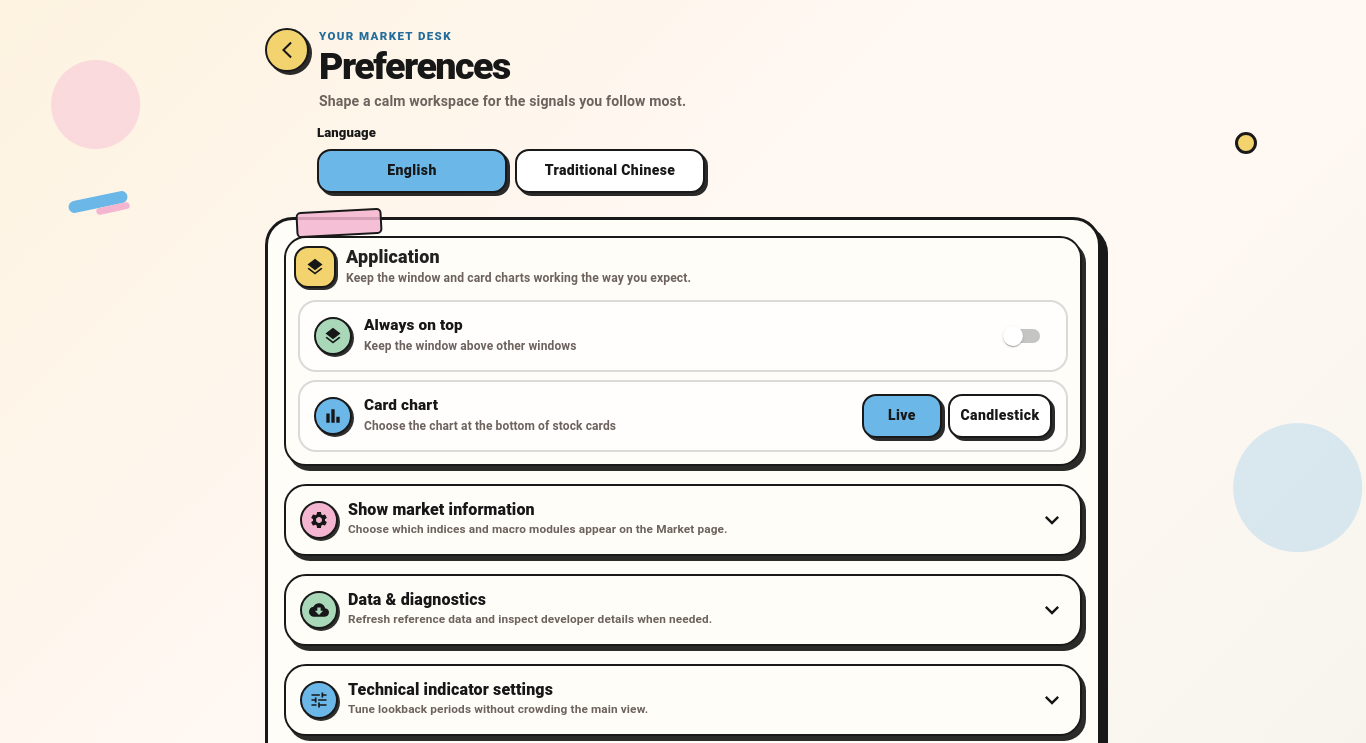
Test: Settings page › edits and resets an indicator without using the obsolete settings key
Click the button "Technical indicator settings": (319, 700) [286,666,1080,734]
(page scrolled)
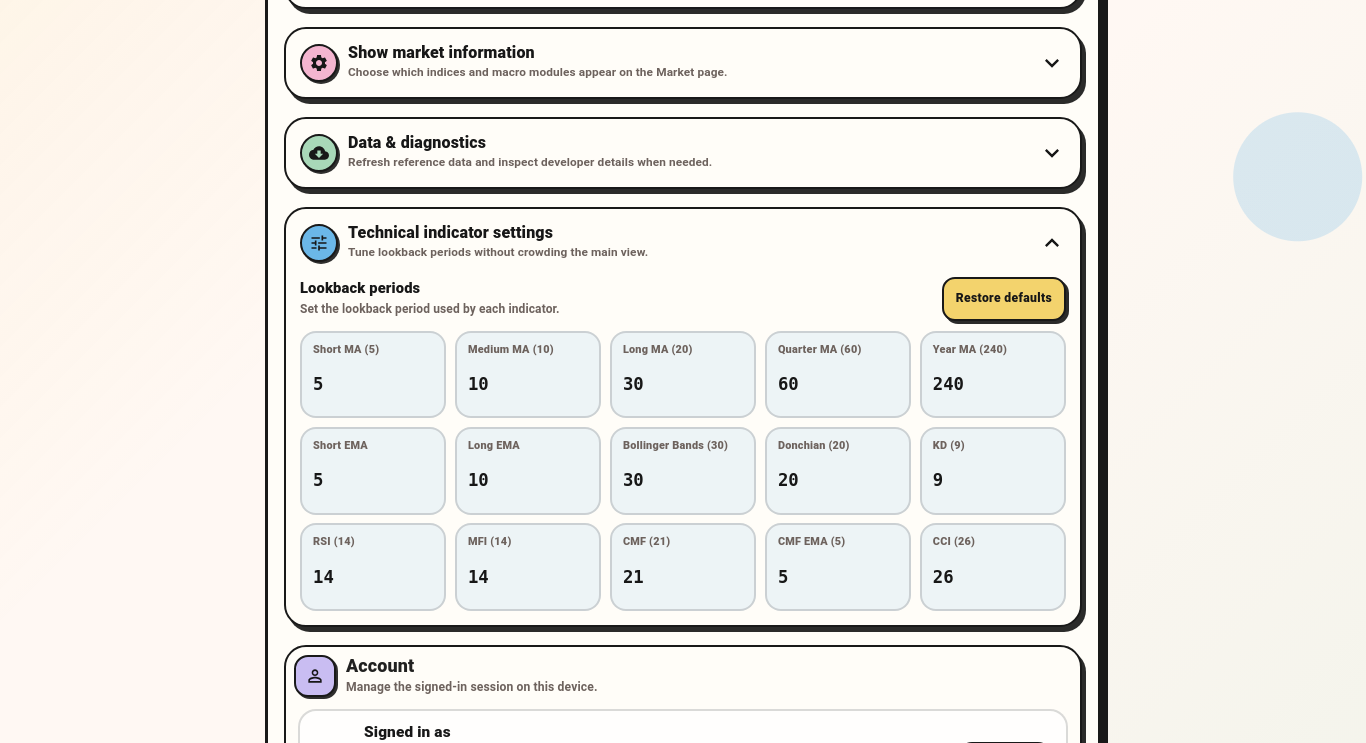
Replace the text in the number field labelled "Short MA (5)" with "17": (373, 384) [313,362,433,406]
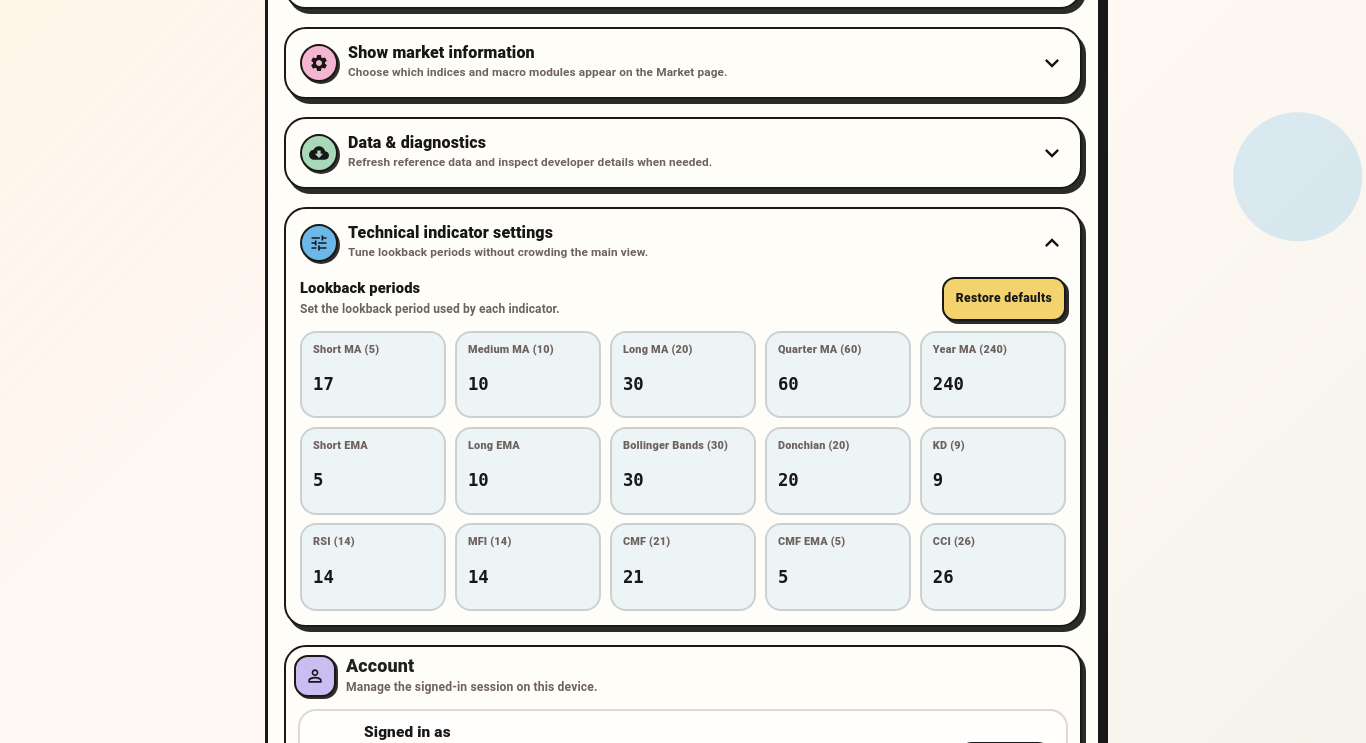
Click the button "Restore defaults": (1004, 298) [942,276,1066,320]
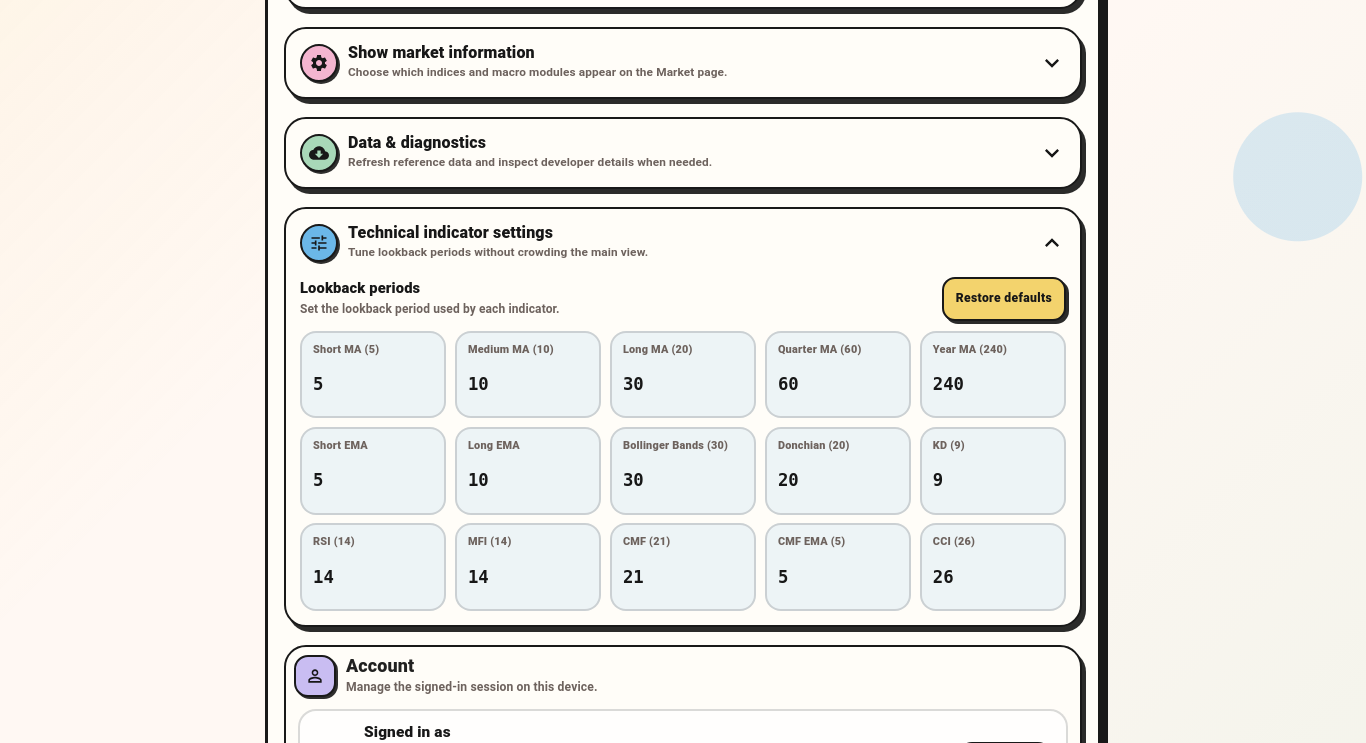
Expected: the number field labelled "Short MA (5)" holds "5", [313,362,433,406]
